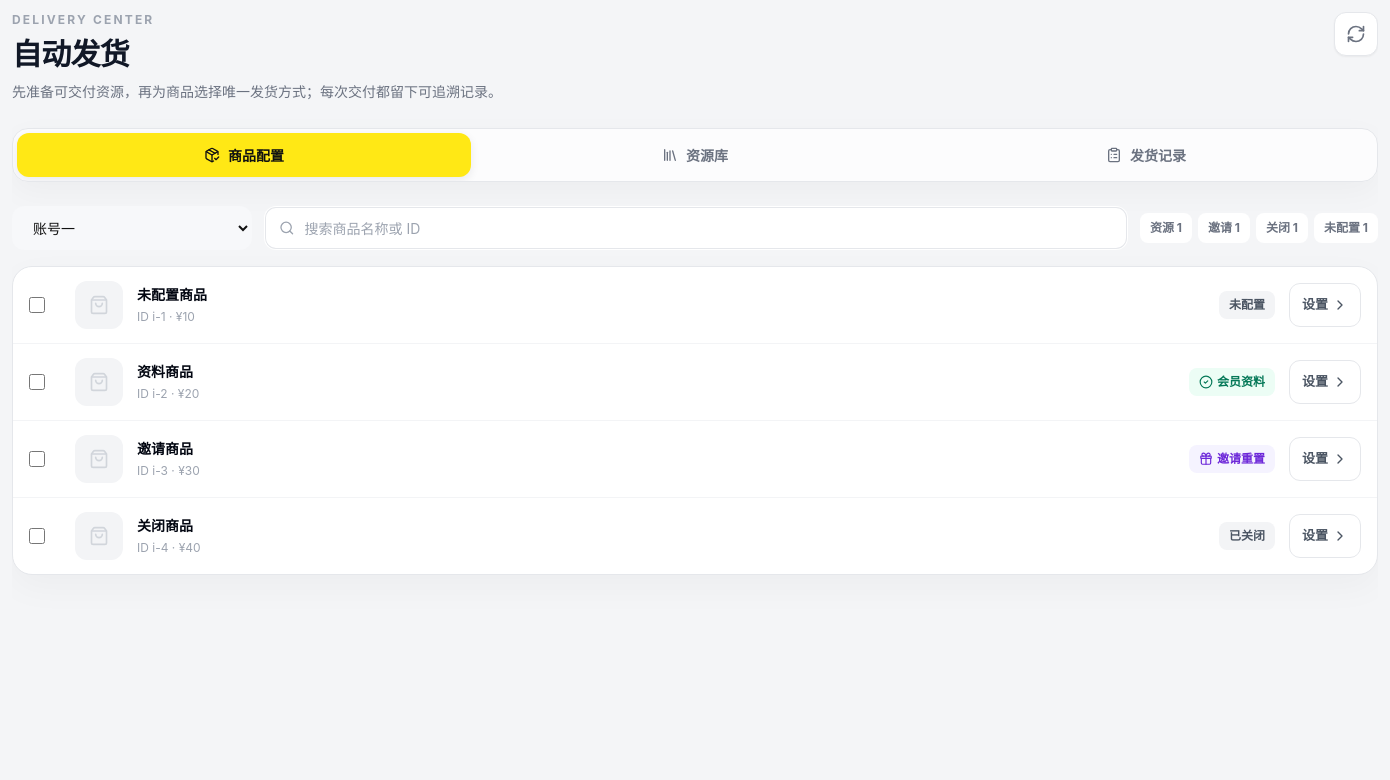
Scenario: AutoDelivery delivery workbench › exposes the resource library as the second workbench page
Expected: the text "未配置商品" is shown, 137,286 -> 207,303
Click the button "资源库" at (695, 155), box 475,133 -> 915,177
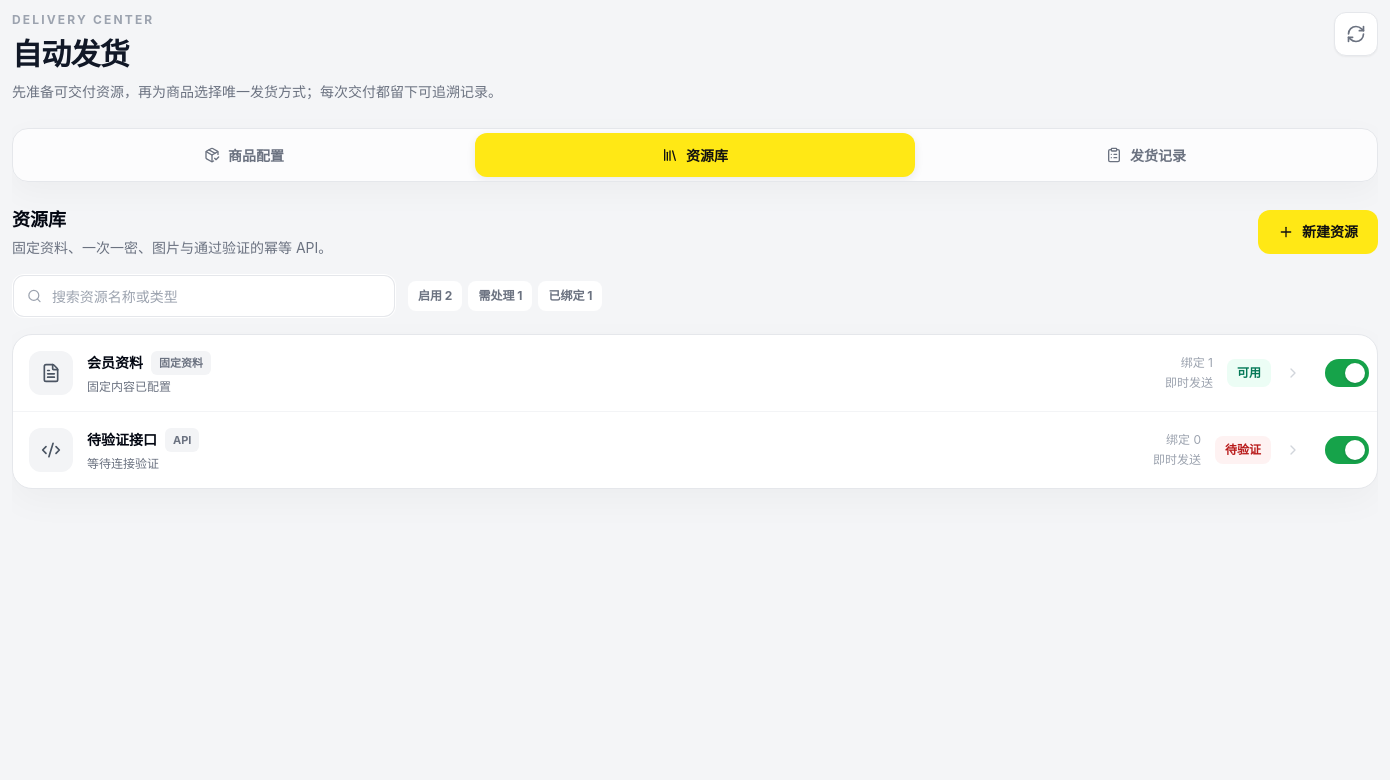
Now the heading "资源库" is shown, box 12,209 -> 66,230
Now the text "固定内容已配置" is shown, box 87,379 -> 171,394
